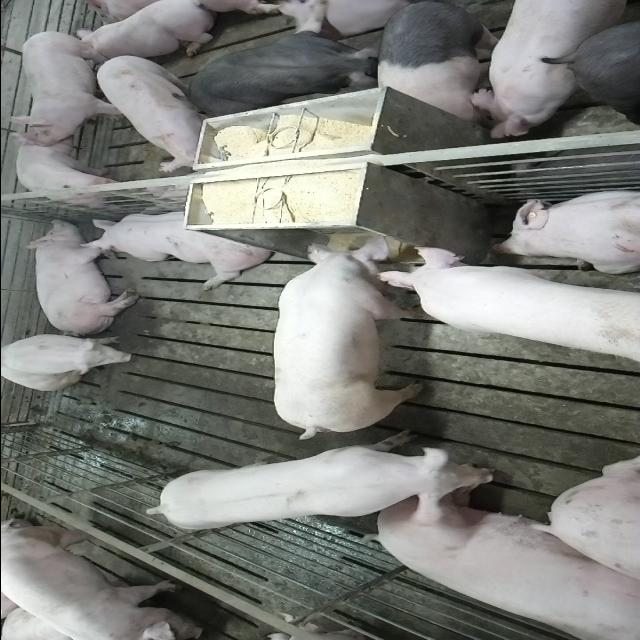Feeding: (268, 233, 428, 441), (367, 247, 633, 363)
Lateral_lying: (20, 220, 142, 336)
Sitting: (1, 332, 147, 390)
Standing: (138, 436, 496, 537), (464, 2, 638, 140), (0, 523, 202, 640), (185, 30, 382, 116), (374, 2, 506, 124), (94, 51, 218, 169), (17, 26, 132, 146), (14, 135, 130, 204), (562, 15, 638, 119)
Sternal_lying: (78, 208, 274, 286), (492, 186, 640, 272), (71, 4, 220, 61), (63, 0, 156, 24)
